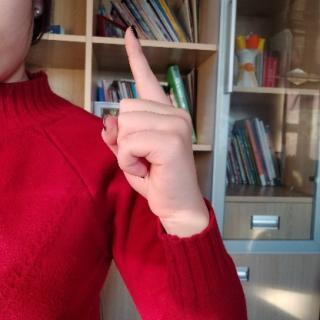RAA: (92, 18, 220, 232)
